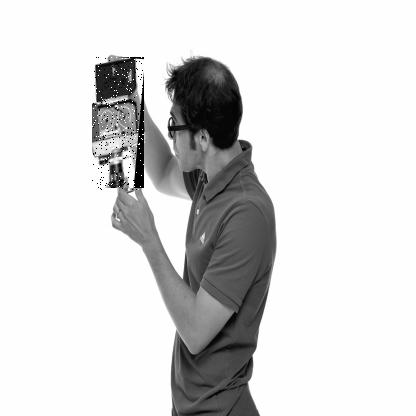Camera: (93, 59, 146, 193)
